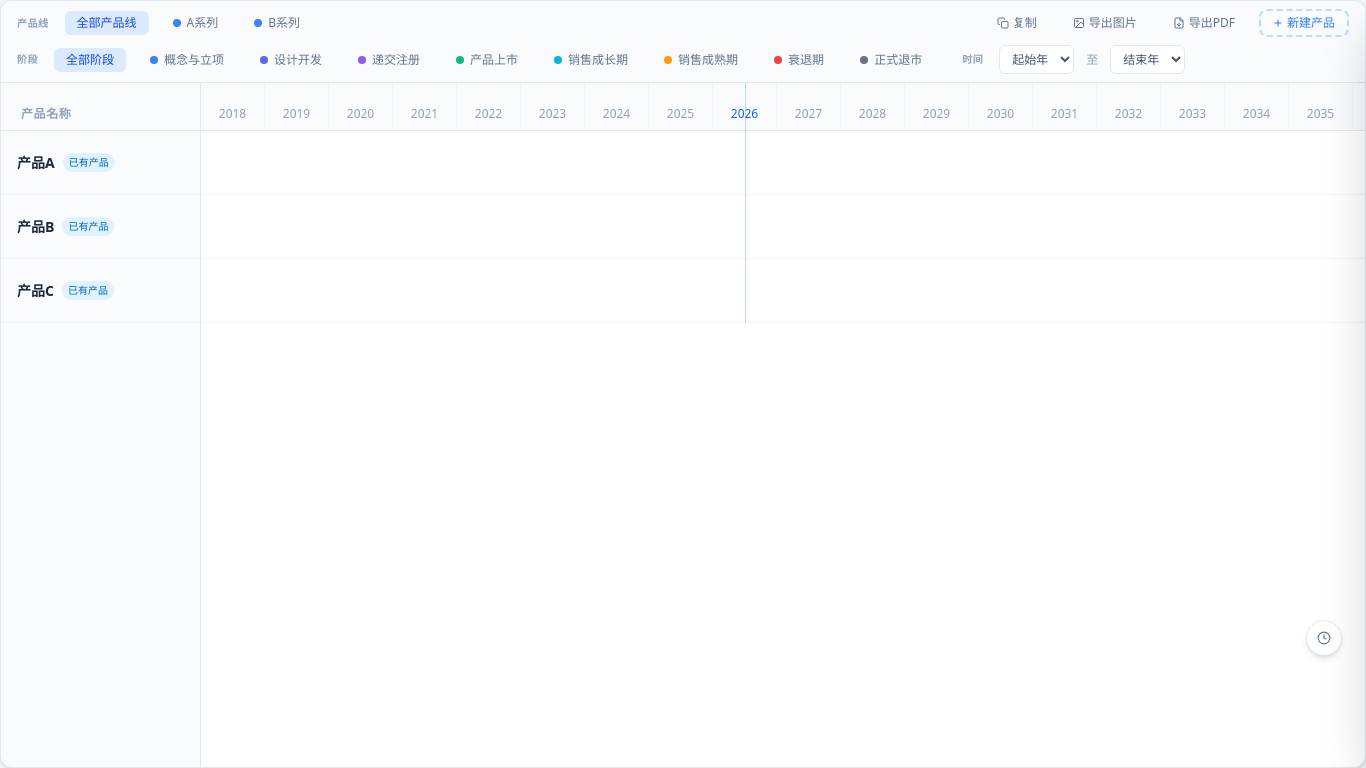
Scenario: RoadmapGantt filter › product line filter › shows all products again when clicking 全部产品线
Click the button "B系列".
click(277, 23)  # box top-left (242, 11), bottom-right (312, 35)
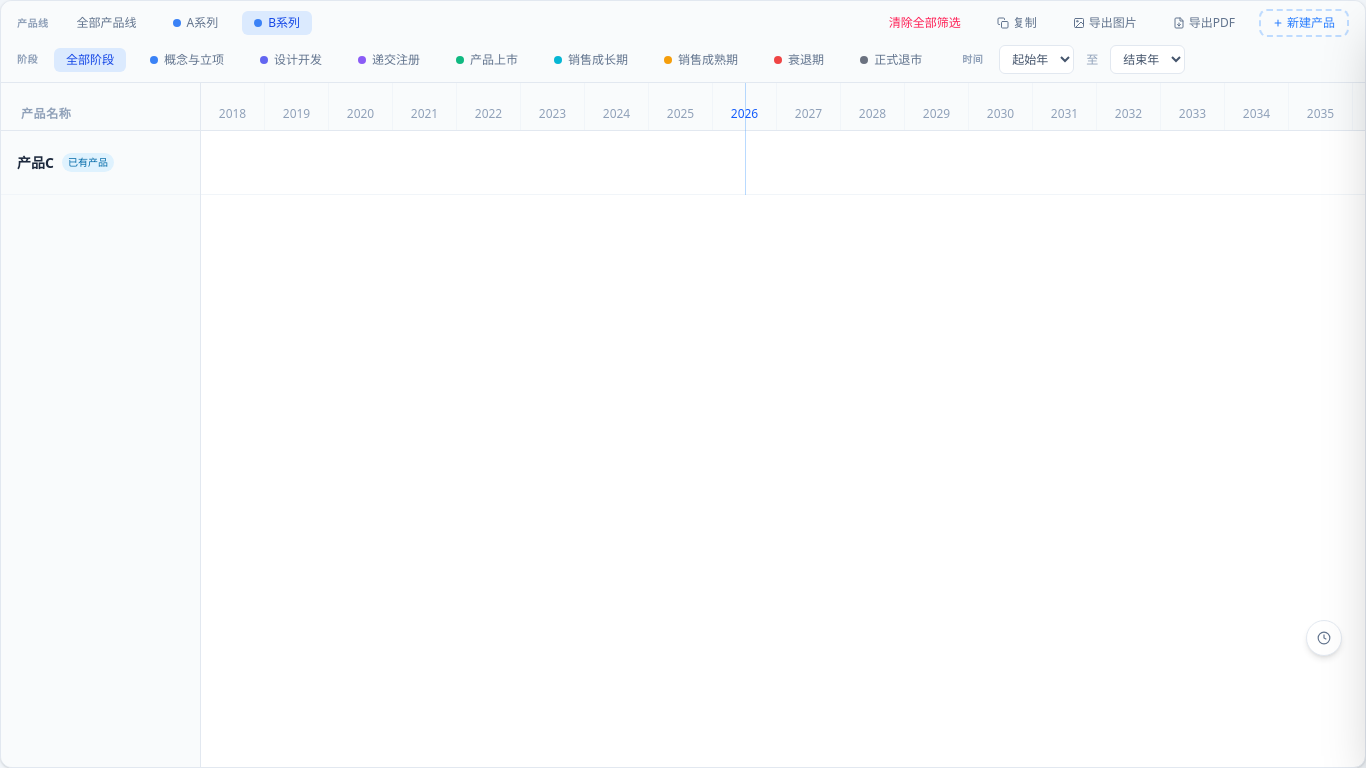
Click the button "全部产品线".
click(106, 23)  # box top-left (64, 11), bottom-right (148, 35)
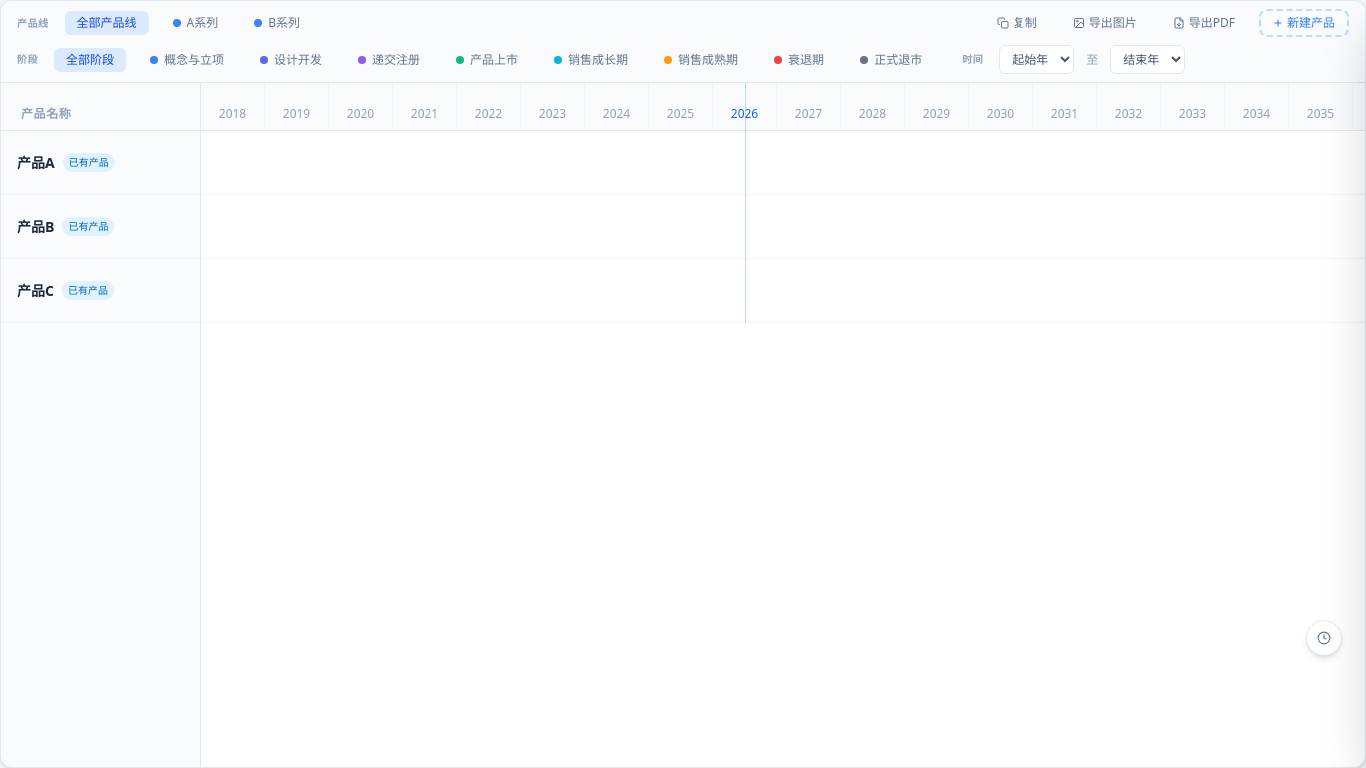
expect the text "产品C" is shown: met, box top-left (17, 280), bottom-right (54, 300)
expect the text "产品A" is shown: met, box top-left (17, 152), bottom-right (55, 172)
